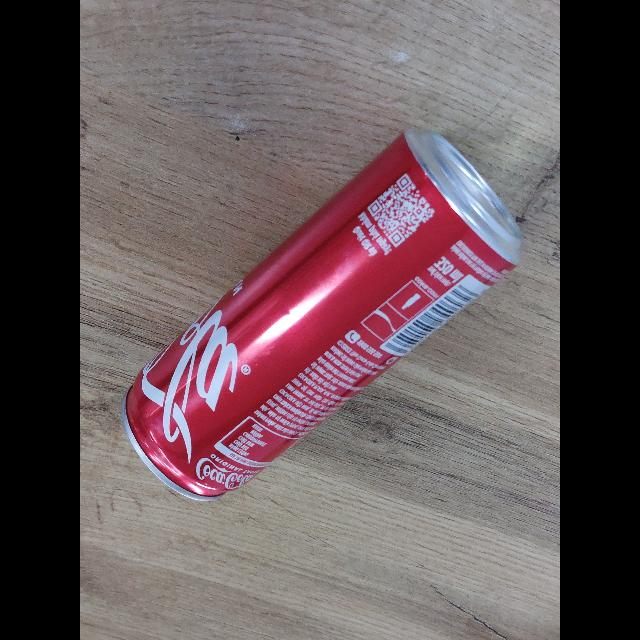coca_cola: (123, 125, 524, 500)
